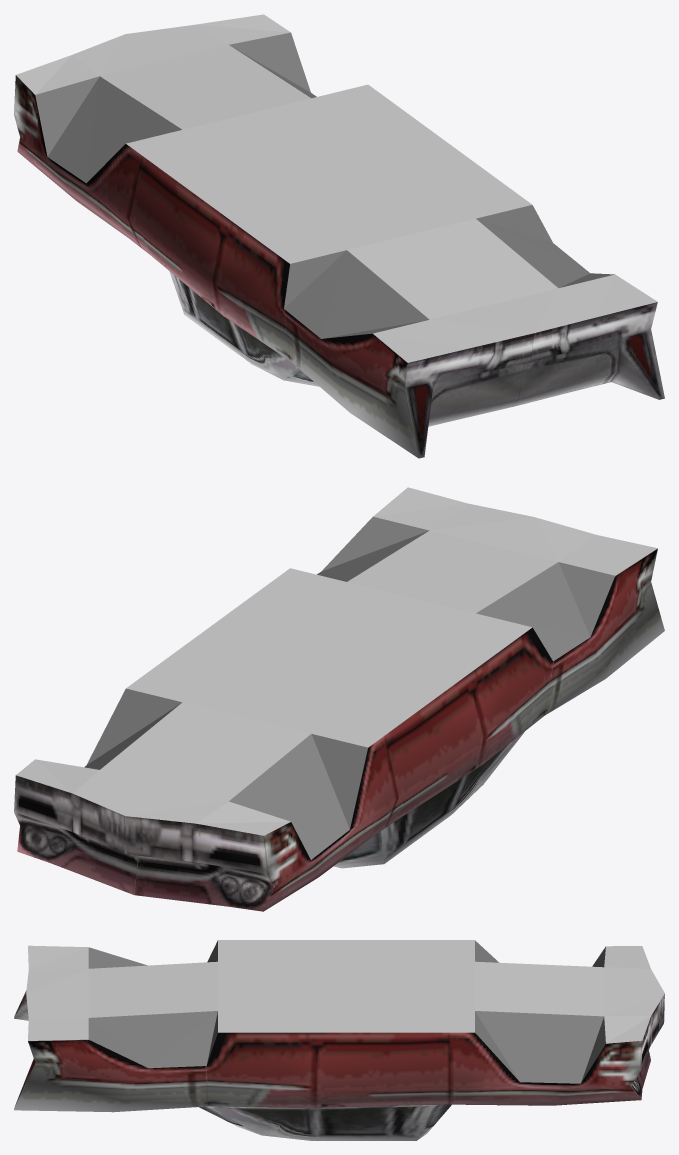
Rendered from HAVANA_model1_clean.obj.
3 renders of one model, top to bottom at view 1: azimuth 30°, elevation 25°; view 2: azimuth 150°, elevation 25°; view 3: azimuth 270°, elevation 25°, orthographic. The views are drawn at different scales.
Parts seen in each view (by area): view 1: HAVANA_model1_clean; view 2: HAVANA_model1_clean; view 3: HAVANA_model1_clean.
Boxes of the visible parts, left/top/right/bottom form: HAVANA_model1_clean: left=14, top=14, right=664, bottom=458; HAVANA_model1_clean: left=14, top=487, right=664, bottom=911; HAVANA_model1_clean: left=14, top=940, right=664, bottom=1140.
Bounding box in the file's own units: 282 × 156 × 750.
